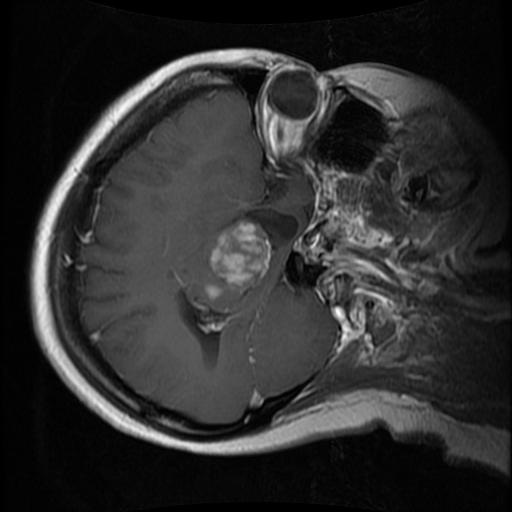glioma: (209, 207, 300, 291)
